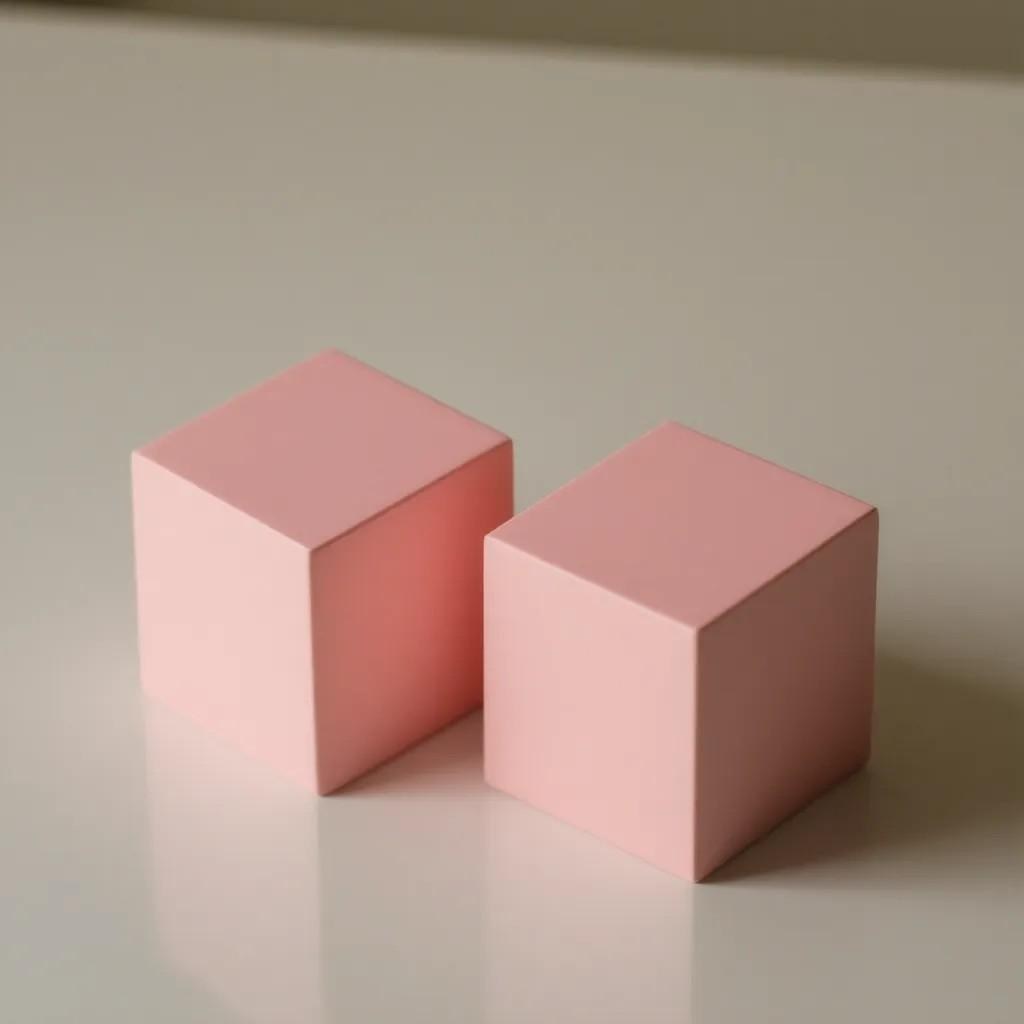cube: (480, 418, 879, 883), (128, 345, 514, 796)
